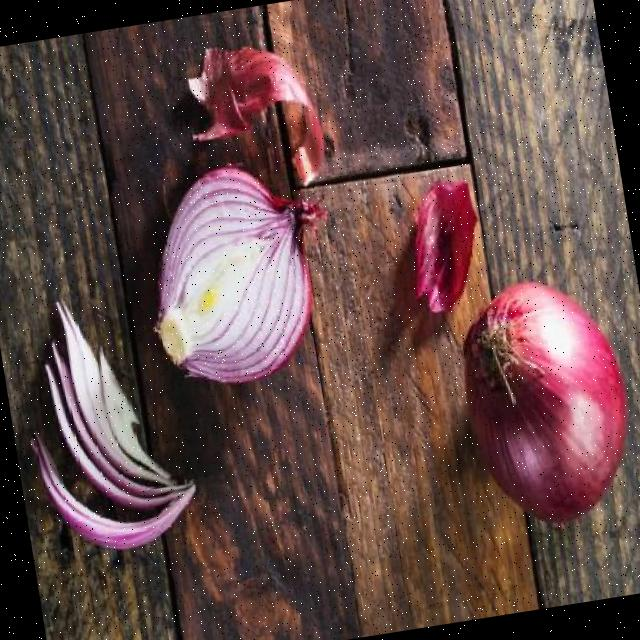Onion: (467, 283, 629, 521)
